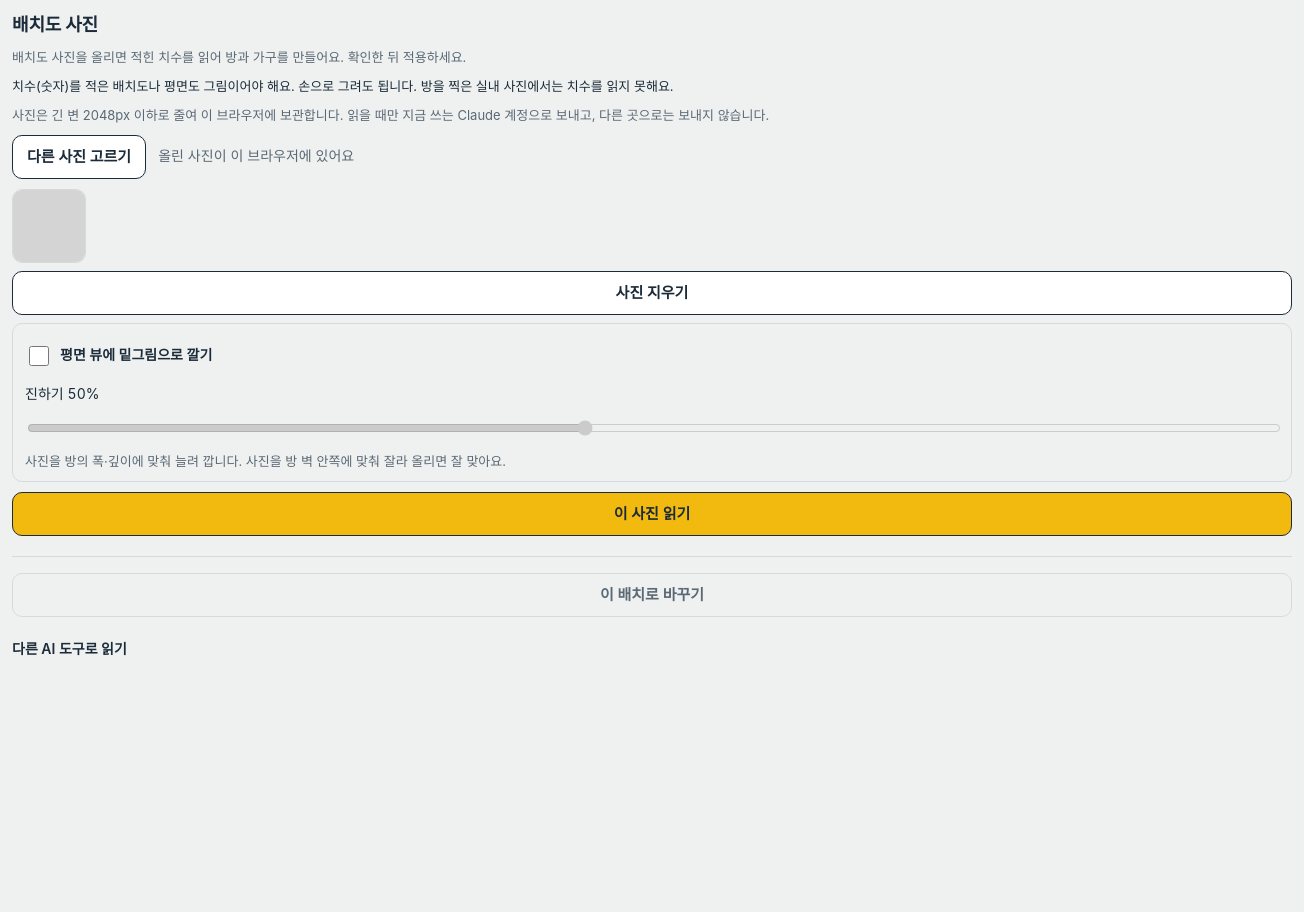
it: 배치도 사진 자동 읽기 › 복원된 사진은 자동으로 읽지 않고, "이 사진 읽기"를 누르면 읽는다
Click the button with test id "photo-read-again" at (652, 514), box [12,492,1292,536]
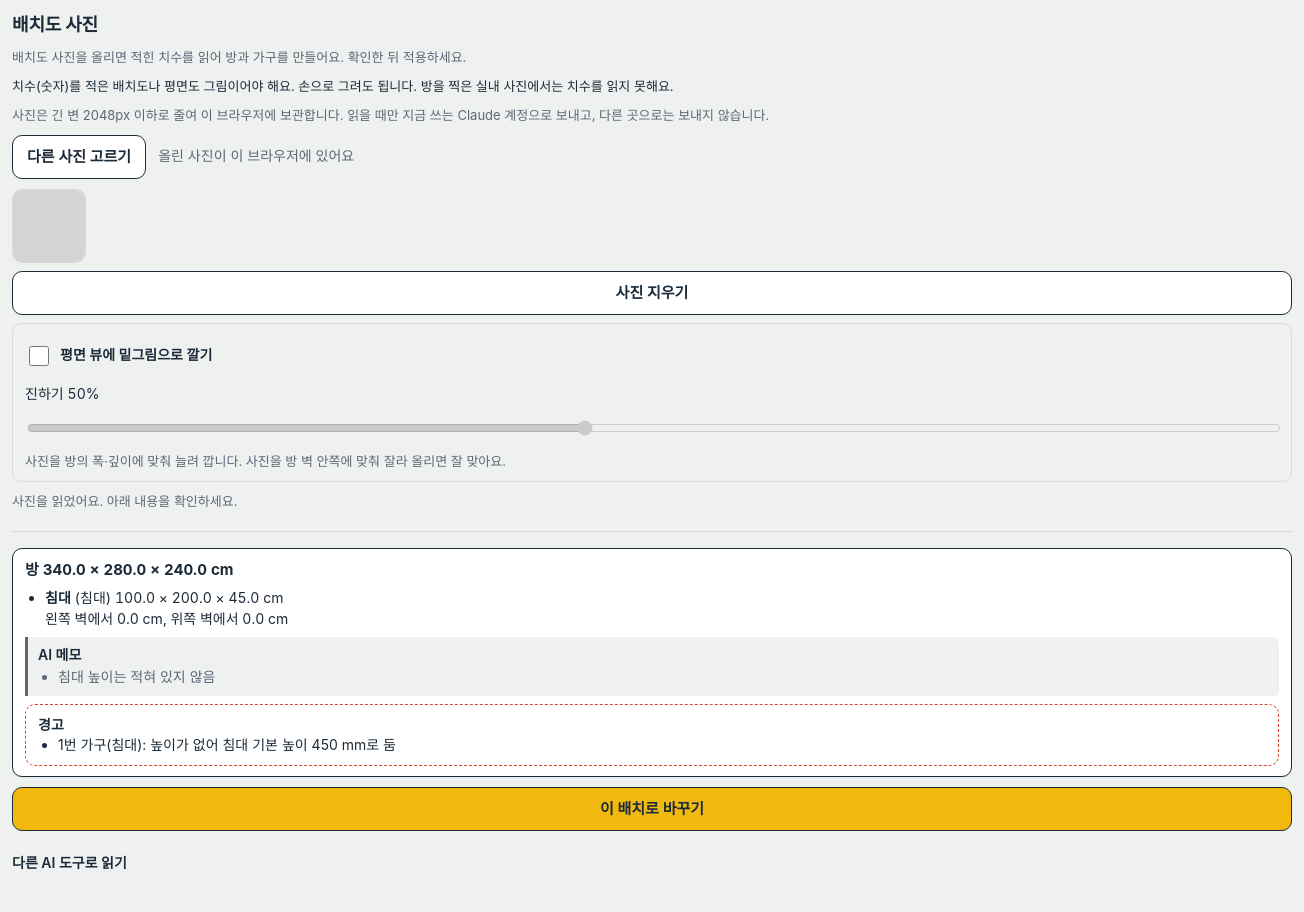
Expected: the element with test id "layout-preview" is shown, [12,548,1292,777]
